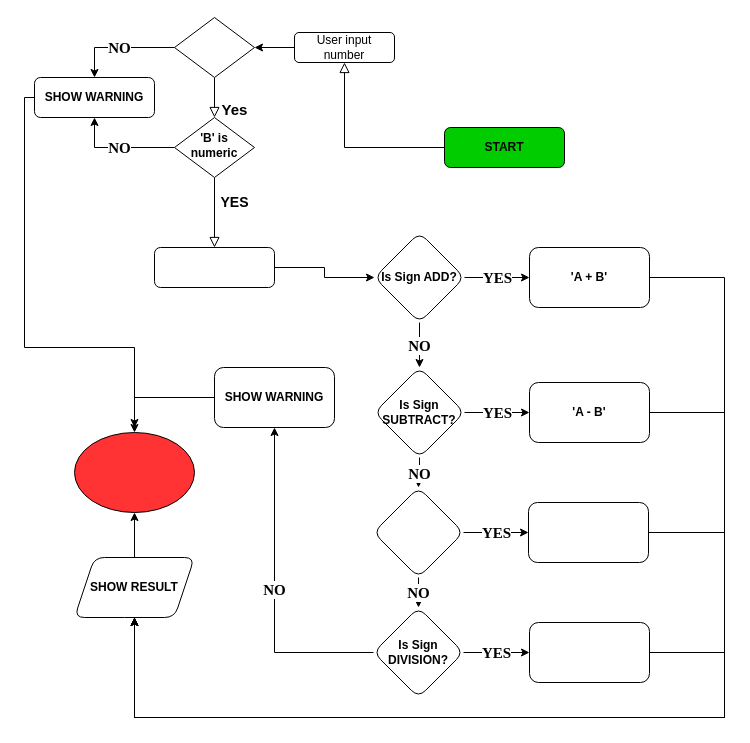
This 750x743 diagram has some shape labels left out. Each missing label, with the centre of its shape:
"'A / B'" goes at pixel 589 652.
"'A x B'" goes at pixel 588 532.
"'A' is numeric" goes at pixel 214 47.
"EXIT APPLICATION" goes at pixel 134 472.
"Is Sign MULTIPLY?" goes at pixel 418 532.
"SIGN INPUT PROCESS" goes at pixel 214 267.
